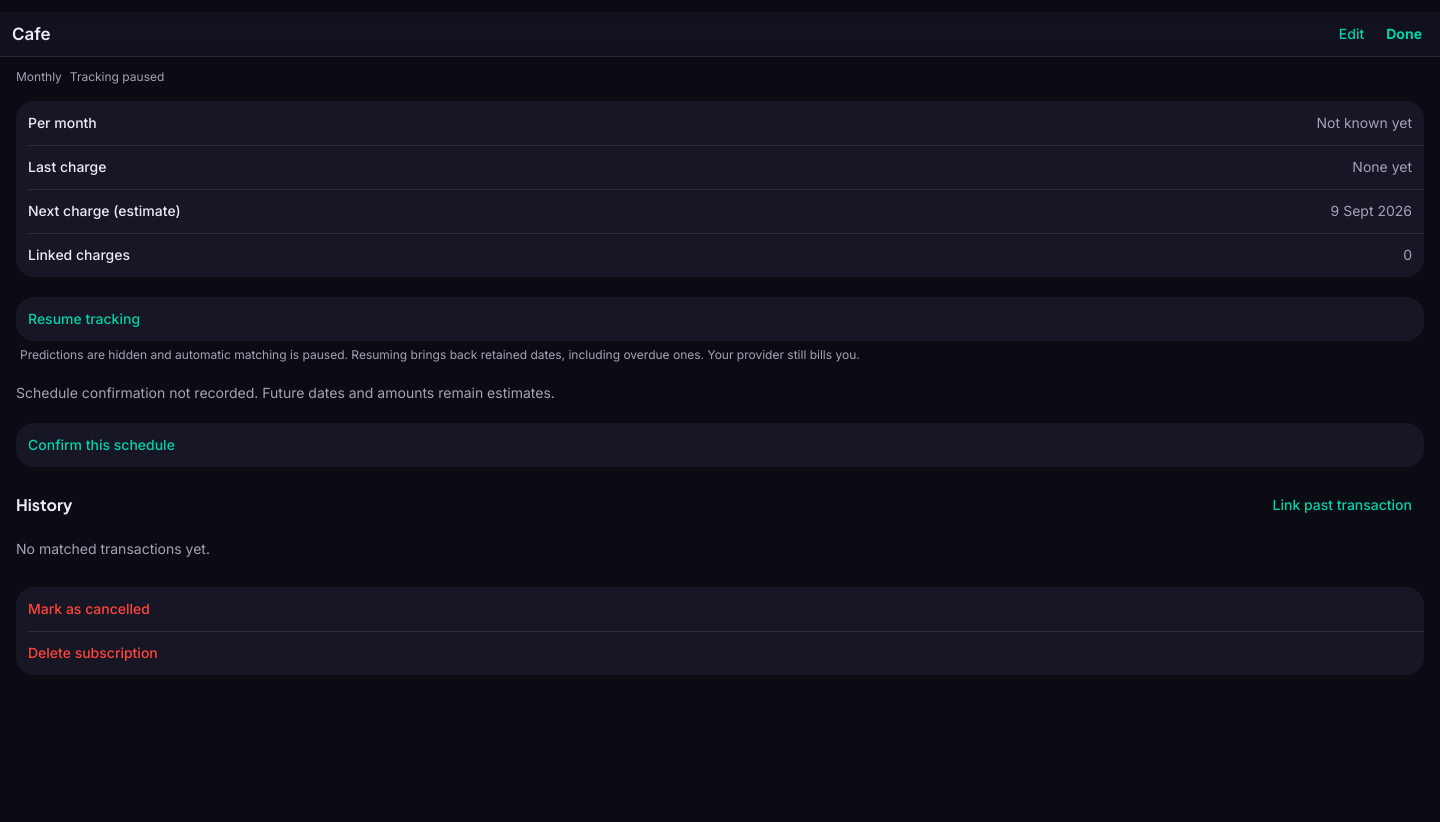
Test case: explicit confirmation preserves paused status and labels estimates
Click the button "Confirm this schedule" at (101, 444), box [16, 423, 1424, 467]
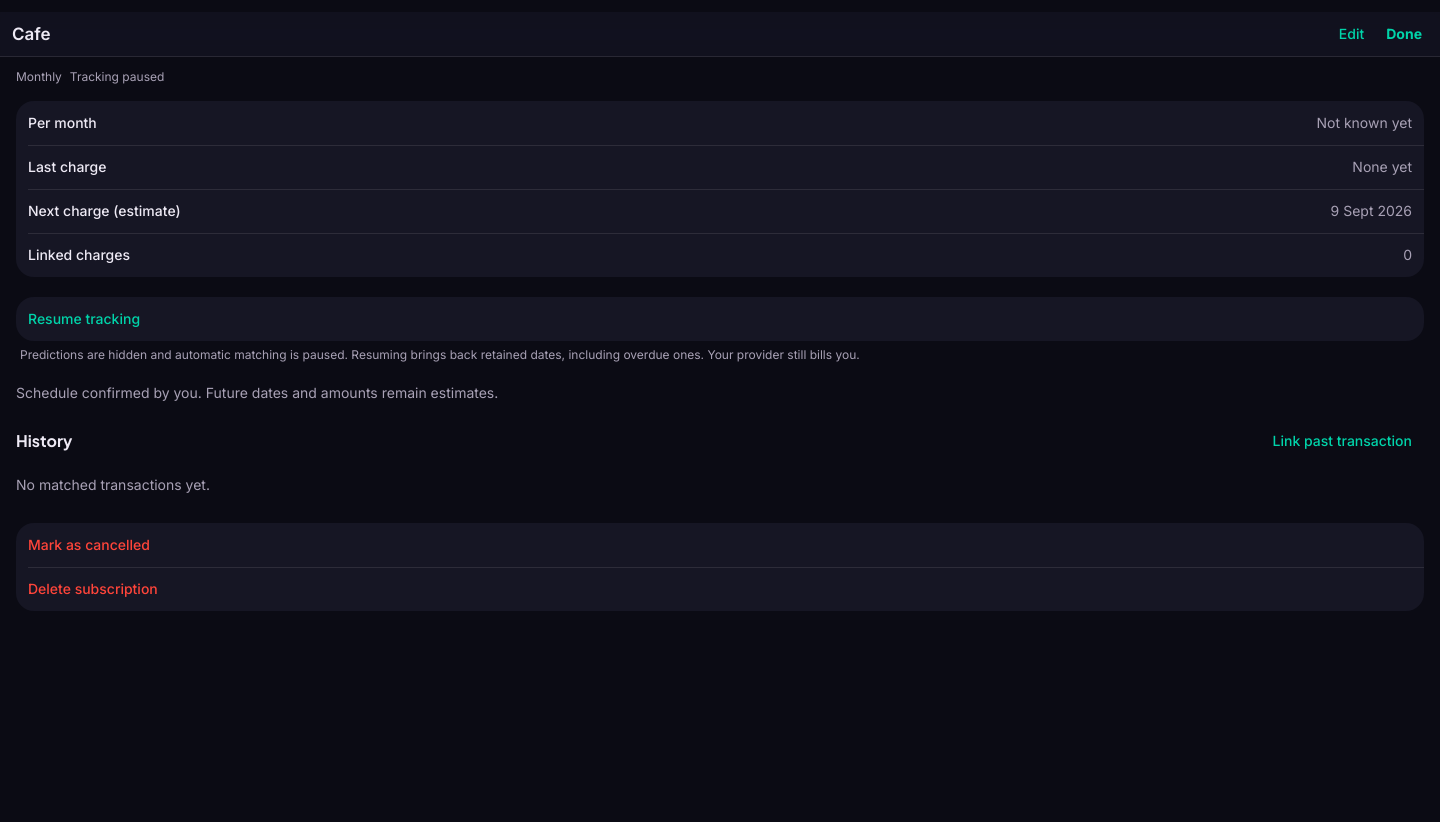
Expected: the text "Future dates and amounts remain estimates" is shown, [198, 384, 498, 401]
Expected: the text "Schedule confirmed by you" is shown, [16, 384, 198, 401]
Expected: the button "Confirm this schedule" is gone
